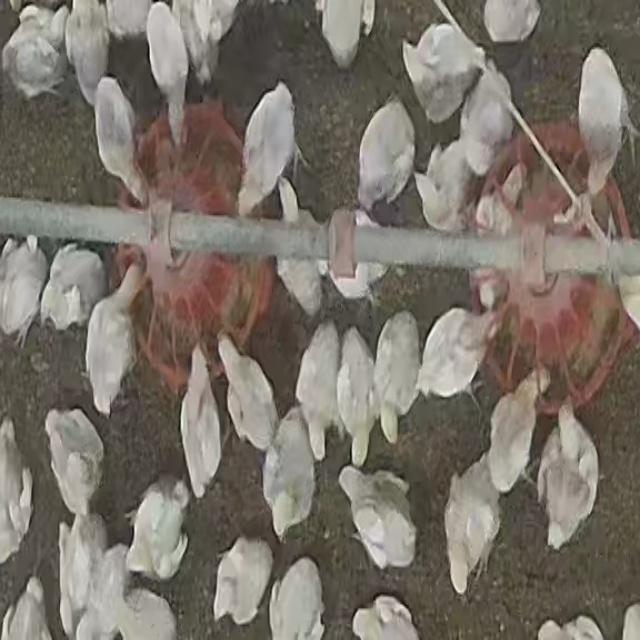chicken: (535, 404, 600, 553), (83, 262, 144, 419), (580, 44, 640, 198), (236, 81, 298, 217), (402, 23, 486, 122), (441, 453, 500, 593), (338, 468, 414, 572), (217, 332, 277, 456), (417, 306, 491, 402), (178, 343, 224, 497), (477, 165, 528, 302), (264, 412, 318, 540), (295, 320, 343, 461), (274, 184, 324, 317), (1, 2, 68, 101), (126, 478, 189, 581), (94, 78, 144, 206), (45, 408, 104, 516), (371, 311, 419, 443), (146, 3, 190, 146), (356, 102, 414, 209), (326, 207, 391, 301), (486, 377, 538, 494), (175, 2, 243, 91), (39, 242, 104, 331), (335, 325, 376, 466), (60, 514, 108, 628), (459, 72, 512, 175), (213, 536, 274, 624), (0, 236, 47, 346), (417, 140, 470, 230), (66, 0, 110, 104), (0, 417, 32, 560), (270, 559, 324, 637), (315, 0, 376, 69), (85, 544, 129, 636), (113, 587, 178, 640), (351, 595, 420, 639), (554, 401, 592, 477), (483, 0, 544, 44), (3, 582, 50, 638), (104, 1, 153, 40)
